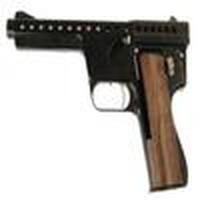gun: (8, 14, 190, 194)
